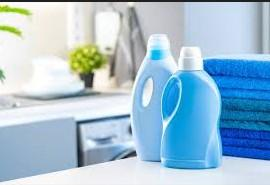bottle: (168, 43, 230, 174), (128, 31, 172, 170)
